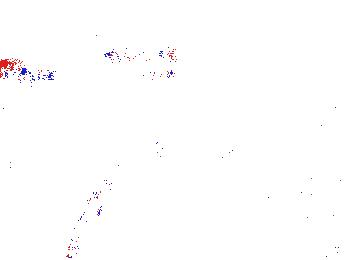X-ray fish: (147, 137, 176, 181)
glassfish: (173, 131, 275, 189), (68, 161, 123, 252)
red belly glassfish: (1, 61, 51, 85), (119, 64, 176, 82)
redtail glassfish: (102, 41, 176, 66)
